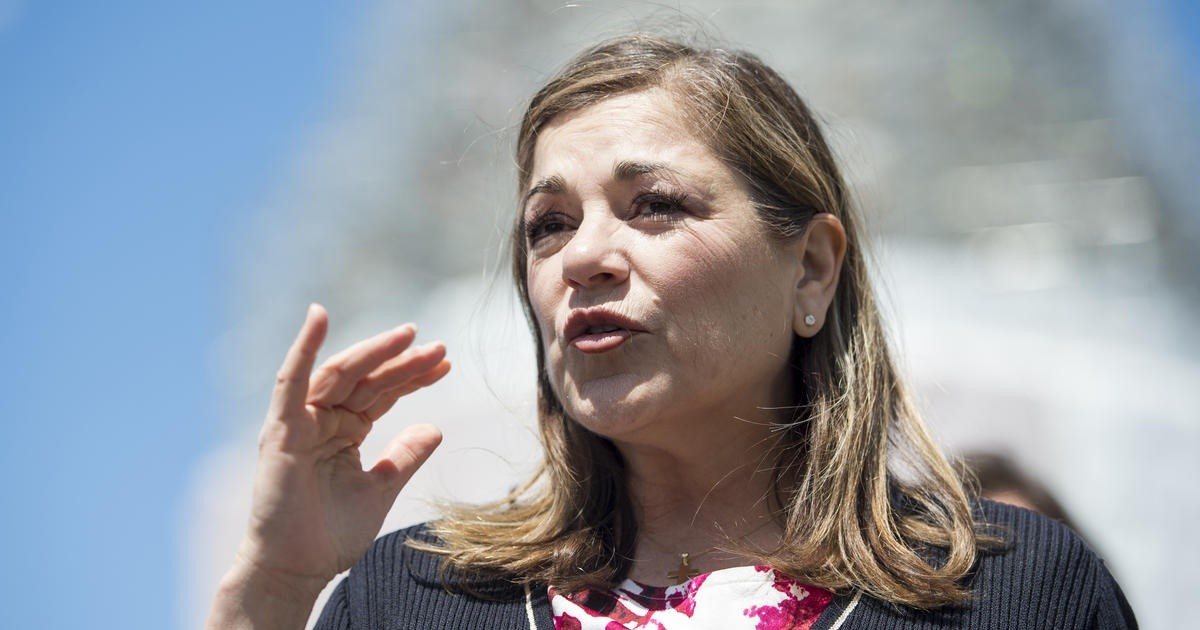face_no_mask: (518, 36, 865, 442)
